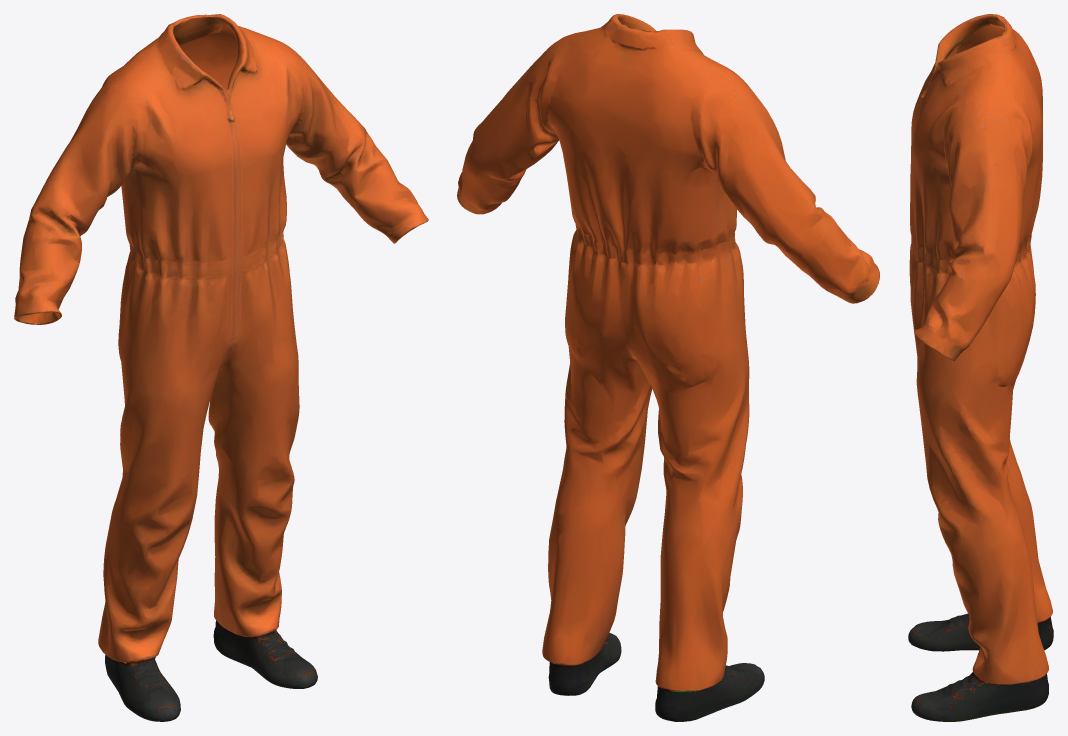
Rendered from mars__Prisoner.glb.
3 views of the same model, side by side, from view 1: azimuth 30°, elevation 25°; view 2: azimuth 150°, elevation 25°; view 3: azimuth 270°, elevation 25° (orthographic). The views are drawn at different scales.
Parts seen in each view (by area): view 1: outfit; view 2: outfit; view 3: outfit.
Boxes of the visible parts, x1,y1,x2,y2 form: outfit: (14,14,428,721); outfit: (457,14,879,721); outfit: (908,14,1053,721).
Bounding box in the file's own units: 1.04 × 1.6 × 0.3225.
1 material, 1 textured.
